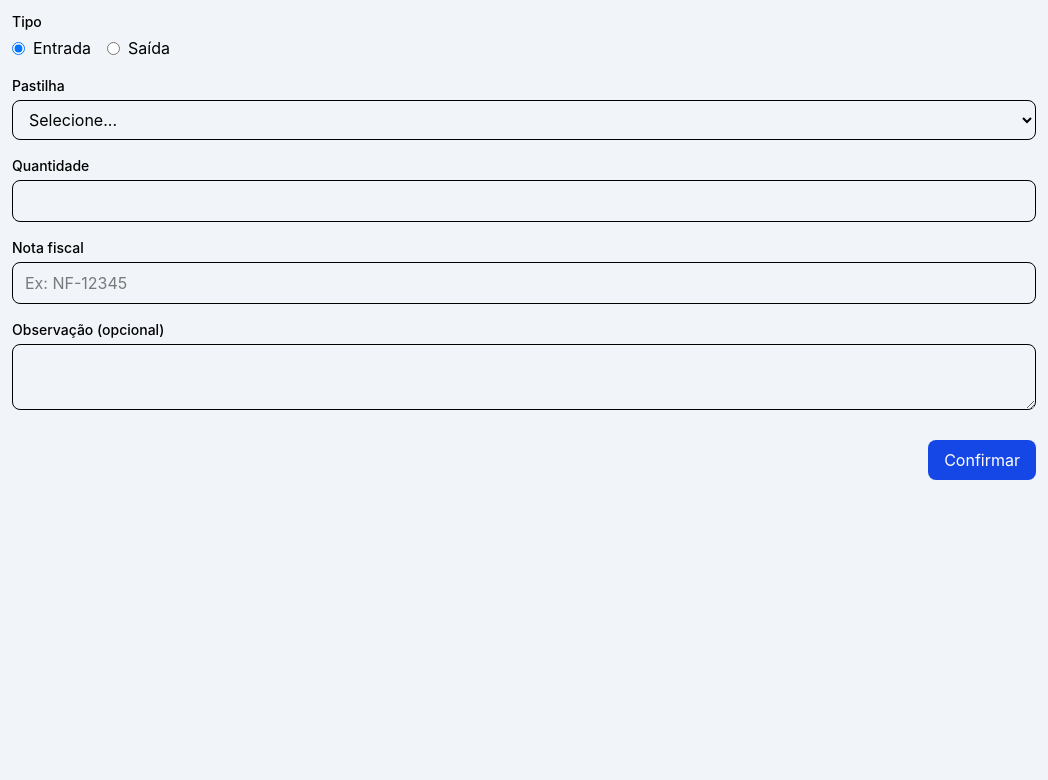
Test: MovimentacaoForm › CT71 - RN01: saída acima do saldo exibe erro e não envia
Select "PST-001 - CNMG (Estoque: 10)" in the dropdown labelled "Pastilha" at coordinates (524, 120), box [12,100,1036,140]
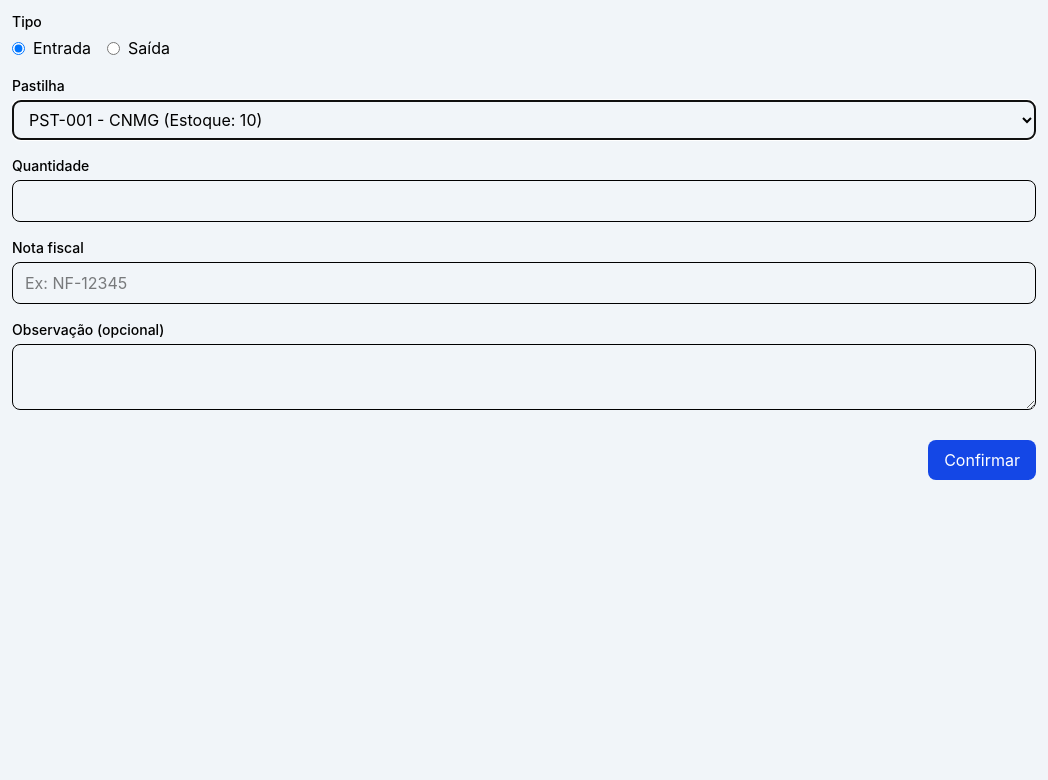
Click the radio button labelled "Saída" at coordinates (114, 48), box [107,42,120,54]
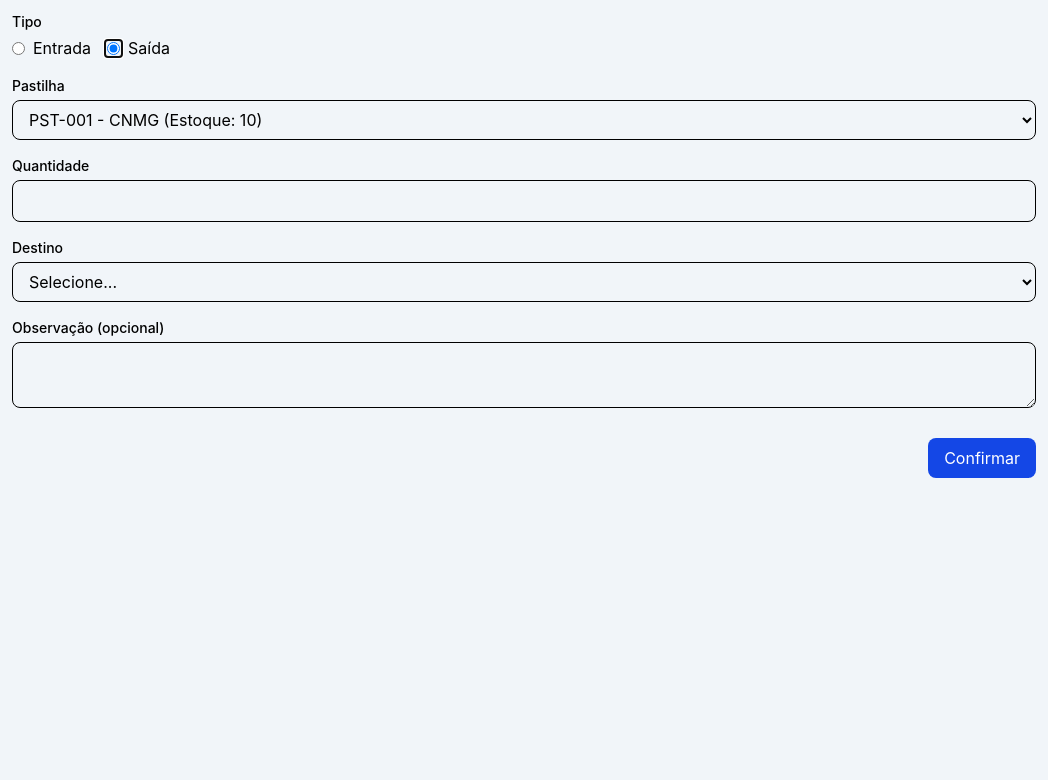
Type "11" into the number field labelled "Quantidade" at coordinates (524, 201), box [12,180,1036,222]
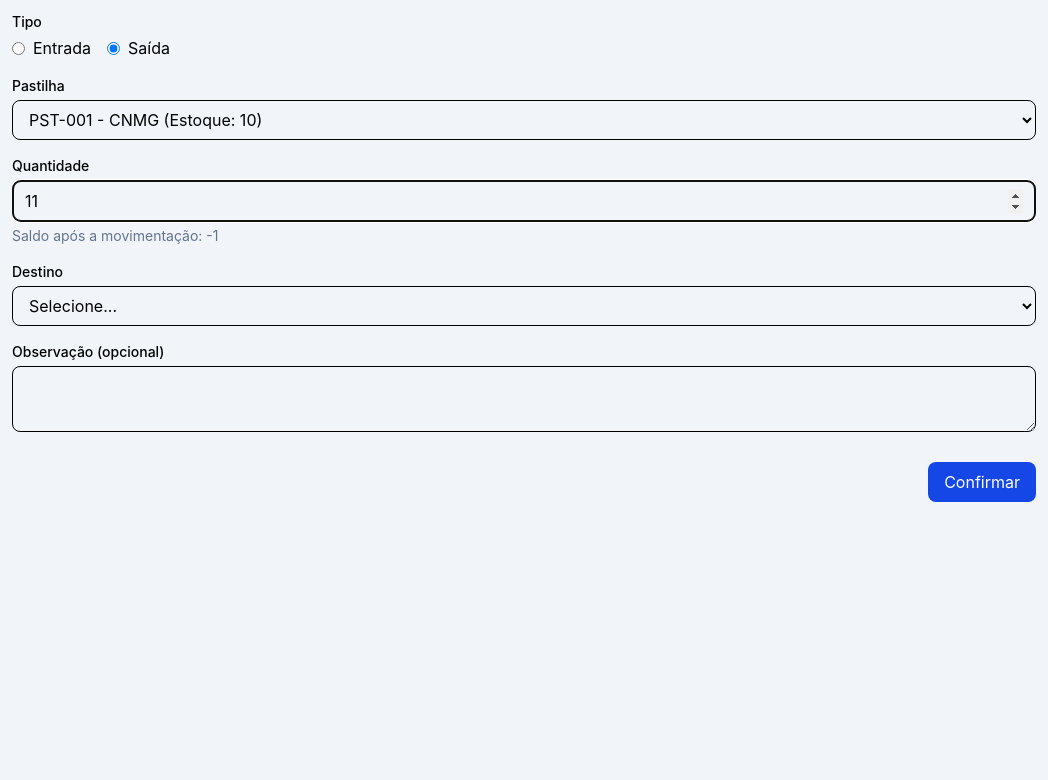
Select "Produção" in the dropdown labelled "Destino" at coordinates (524, 306), box [12,286,1036,326]
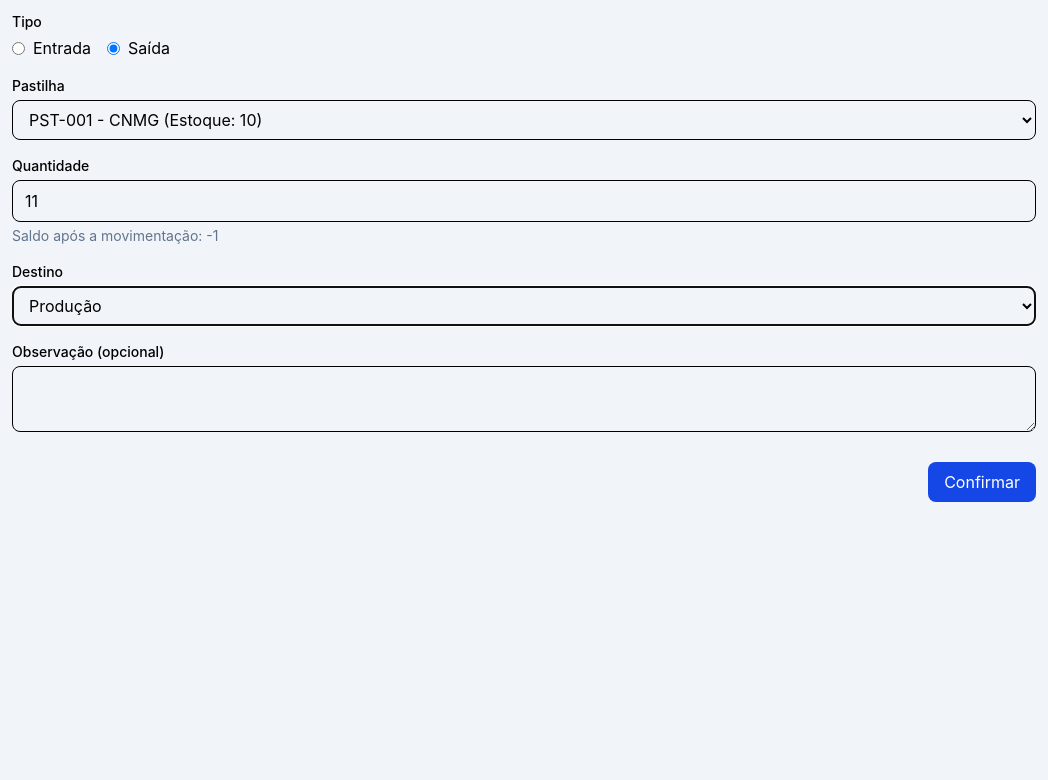
Click the button "Confirmar" at coordinates (982, 482), box [928,462,1036,502]
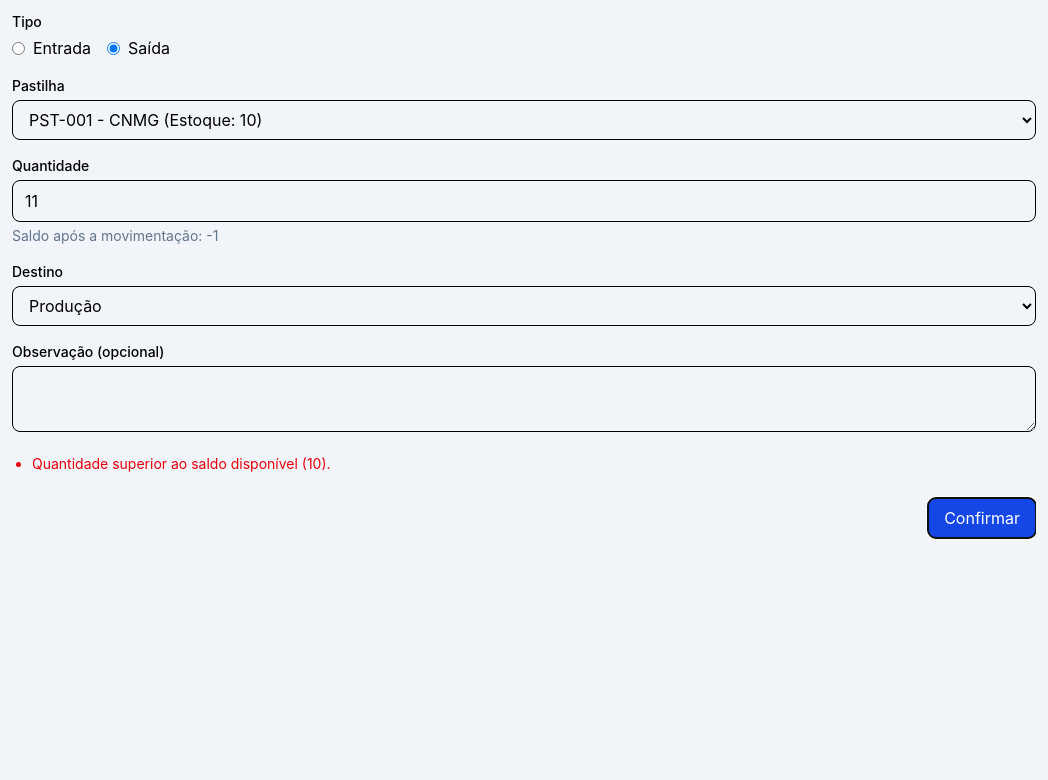
Expected: the message reads "Quantidade superior ao saldo disponível (10).", [32,455,331,472]
